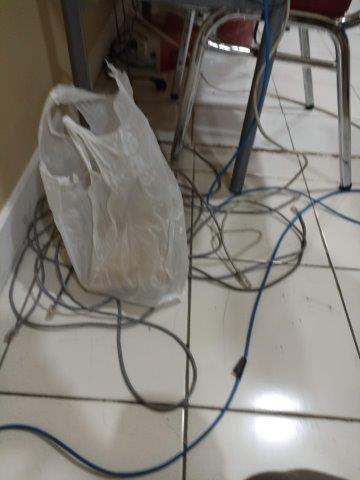plastik: (35, 62, 187, 308)
